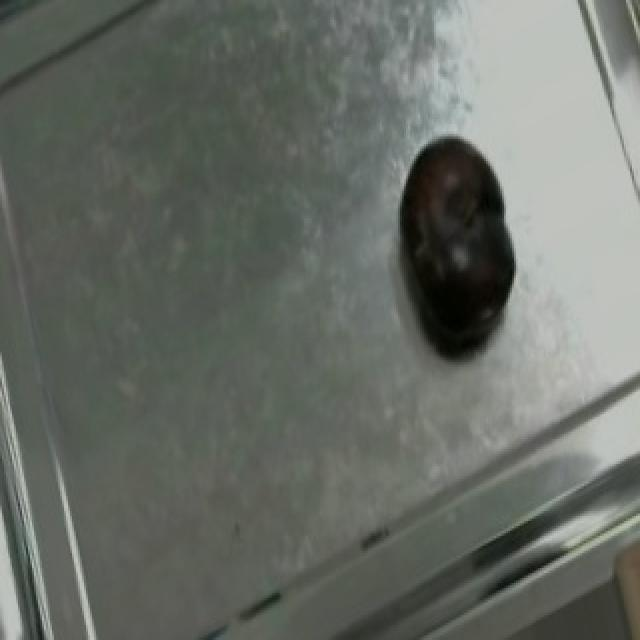Fruit: (380, 117, 532, 330)
